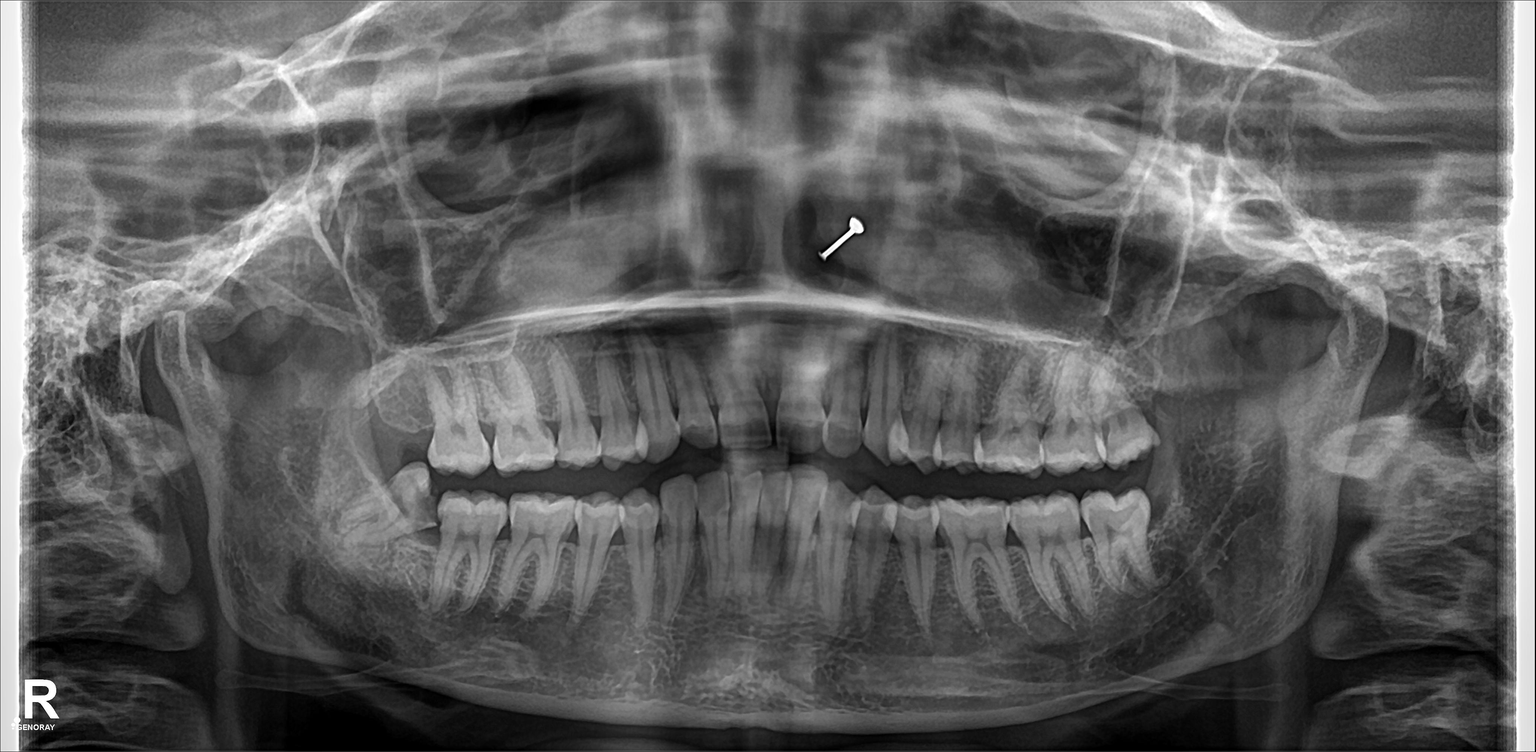Impacted Third Molar: (330, 468, 434, 545)
Missing Tooth: (374, 374, 437, 447)
